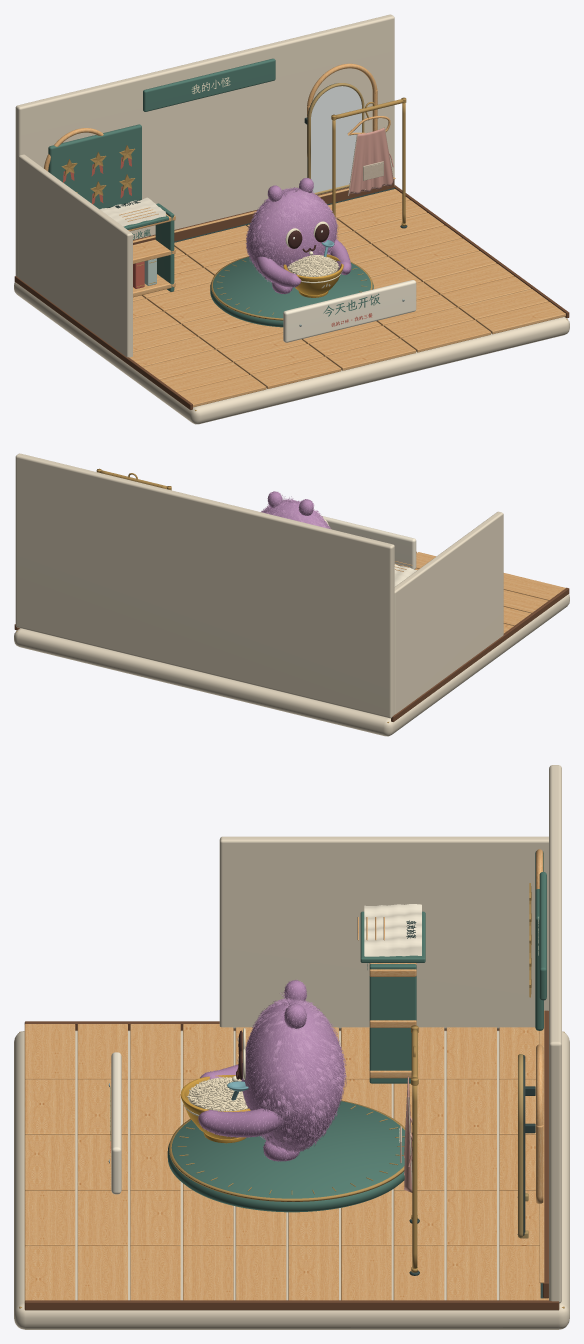
The model's file is profile.glb.
The picture shows the model from 3 angles, top to bottom: view 1: azimuth 30°, elevation 25°; view 2: azimuth 150°, elevation 25°; view 3: azimuth 270°, elevation 25°; orthographic projection. The views are drawn at different scales.
Visible parts, largest first — view 1: Back plaster.002, Left cutaway.002, Foundation bevel.003, Badge display board, Character display plinth, Continuous chibi plush with blended cheek tint, Personal name plaque, Silvered optical arch mirror face, Enamel title plaque.004, Fine irregular crossed velvet fibers, Draped tailored apron, Staggered oak board.154 (+44 smaller); view 2: Back plaster.002, Left cutaway.002, Foundation bevel.003, Personal name plaque, Floor exposed end grain finishing strip, Staggered oak board.150, Continuous chibi plush with blended cheek tint, Staggered oak board.155, Fine irregular crossed velvet fibers; view 3: Left cutaway.002, Foundation bevel.003, Character display plinth, Continuous chibi plush with blended cheek tint, Back plaster.002, Fine irregular crossed velvet fibers, Floor exposed end grain finishing strip.001, Shelf upright.001, Loose overlapping fine fur clumps, Staggered oak board.150, Staggered oak board.151, Staggered oak board.152 (+51 smaller).
Part boxes in pixels (box(x1,y1,x2,y2)): Back plaster.002: box(15, 14, 394, 277); Left cutaway.002: box(18, 154, 132, 357); Foundation bevel.003: box(14, 282, 569, 424); Badge display board: box(48, 124, 141, 209); Character display plinth: box(210, 257, 373, 327); Continuous chibi plush with blended cheek tint: box(247, 188, 336, 281); Personal name plaque: box(283, 280, 416, 342); Silvered optical arch mirror face: box(311, 86, 361, 193); Enamel title plaque.004: box(143, 58, 275, 111); Fine irregular crossed velvet fibers: box(246, 187, 337, 283); Draped tailored apron: box(349, 127, 393, 195); Staggered oak board.154: box(476, 301, 565, 334); Back plaster.002: box(15, 453, 394, 718); Left cutaway.002: box(394, 511, 503, 714); Foundation bevel.003: box(14, 594, 569, 736); Personal name plaque: box(321, 515, 416, 569); Floor exposed end grain finishing strip: box(391, 587, 569, 721); Staggered oak board.150: box(503, 573, 565, 600); Continuous chibi plush with blended cheek tint: box(262, 500, 329, 528); Staggered oak board.155: box(503, 590, 548, 613); Fine irregular crossed velvet fibers: box(261, 499, 330, 529); Left cutaway.002: box(219, 836, 548, 1029); Foundation bevel.003: box(14, 1030, 569, 1329); Character display plinth: box(167, 1101, 404, 1212); Continuous chibi plush with blended cheek tint: box(241, 999, 344, 1150); Back plaster.002: box(549, 765, 561, 1303); Fine irregular crossed velvet fibers: box(242, 998, 345, 1152); Floor exposed end grain finishing strip.001: box(24, 1300, 559, 1310); Shelf upright.001: box(369, 964, 416, 1083); Loose overlapping fine fur clumps: box(250, 1000, 346, 1152); Staggered oak board.150: box(24, 1024, 75, 1079); Staggered oak board.151: box(24, 1079, 75, 1135); Staggered oak board.152: box(24, 1135, 75, 1190).
Bounding box in the file's own units: 9.21 × 4.43 × 7.7.
27 materials, 2 textured.
